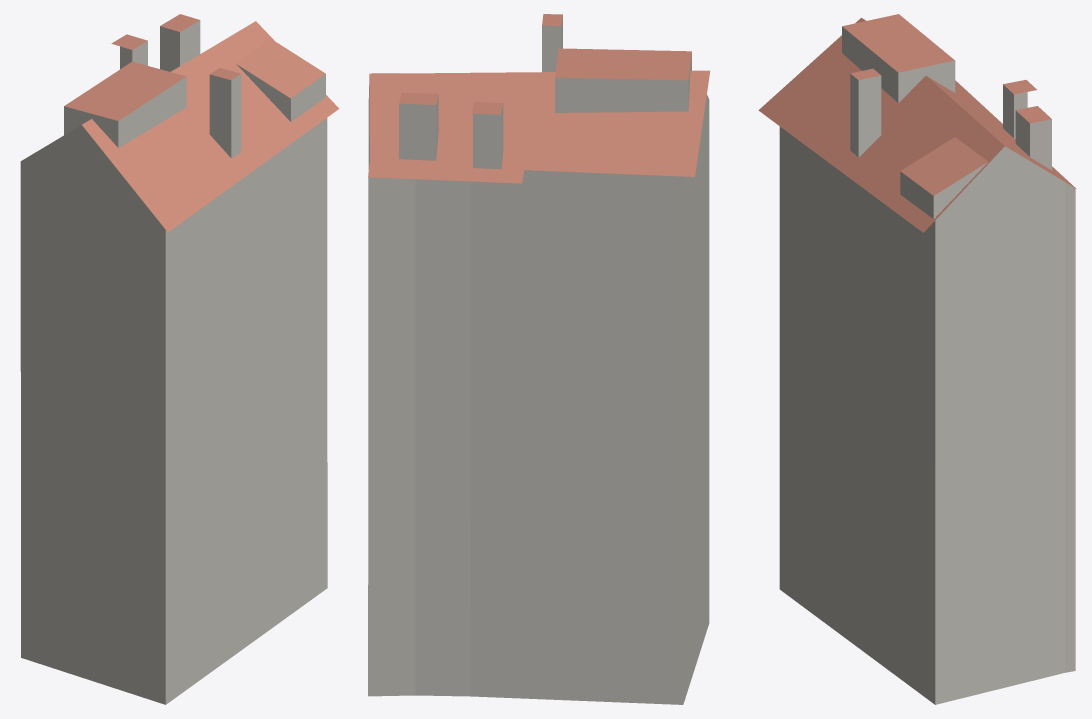
3 renders of one model, left to right at view 1: azimuth 30°, elevation 25°; view 2: azimuth 150°, elevation 25°; view 3: azimuth 270°, elevation 25°, orthographic. The views are drawn at different scales.
Visible parts, largest first — view 1: swisstopo:swissbuildings3d:c56fa335-a955-4f6f-b7e8-f77480a0f; view 2: swisstopo:swissbuildings3d:c56fa335-a955-4f6f-b7e8-f77480a0f; view 3: swisstopo:swissbuildings3d:c56fa335-a955-4f6f-b7e8-f77480a0f.
Boxes of the visible parts, x1,y1,x2,y2 form: swisstopo:swissbuildings3d:c56fa335-a955-4f6f-b7e8-f77480a0f: (20,14,339,704); swisstopo:swissbuildings3d:c56fa335-a955-4f6f-b7e8-f77480a0f: (368,14,710,704); swisstopo:swissbuildings3d:c56fa335-a955-4f6f-b7e8-f77480a0f: (758,14,1076,704).
Bounding box in the file's own units: 12.68 × 22.01 × 11.28.
